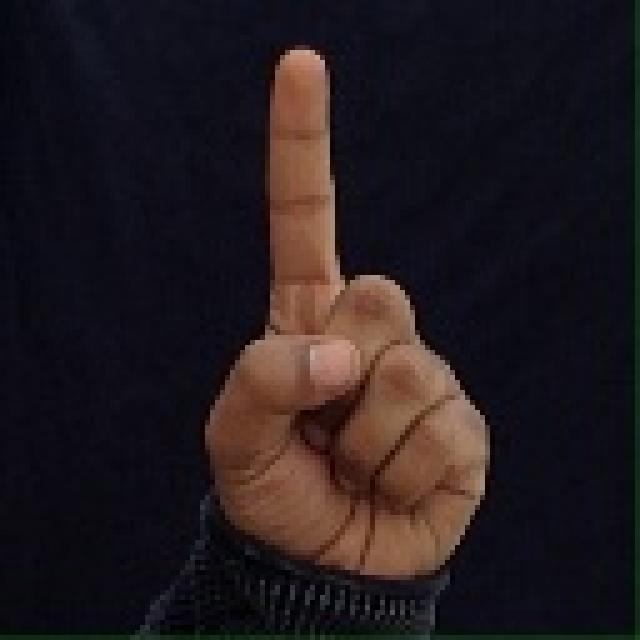Numeric-1: (198, 48, 489, 576)
